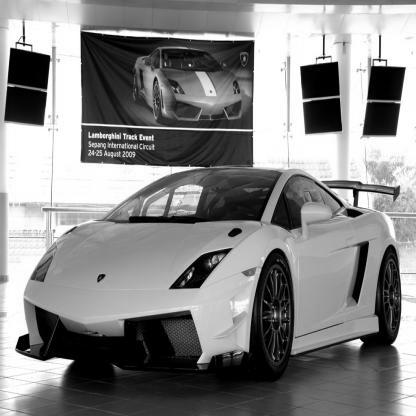car: (8, 167, 410, 379), (127, 44, 252, 126)
